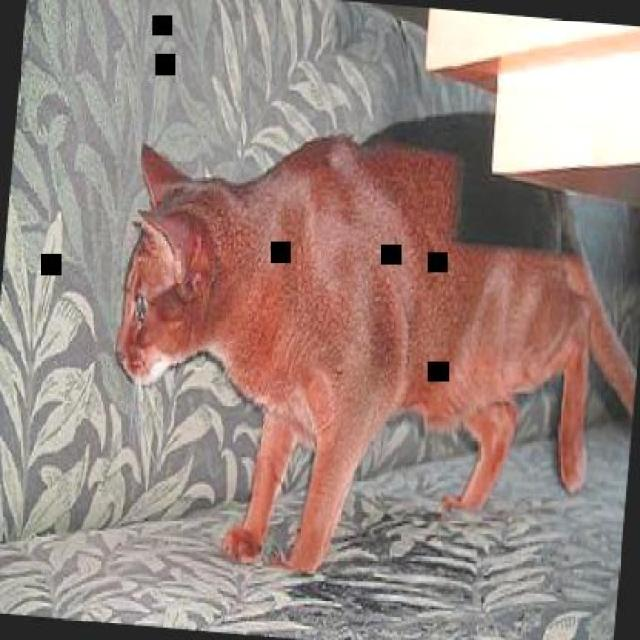cat: (94, 82, 638, 608)
